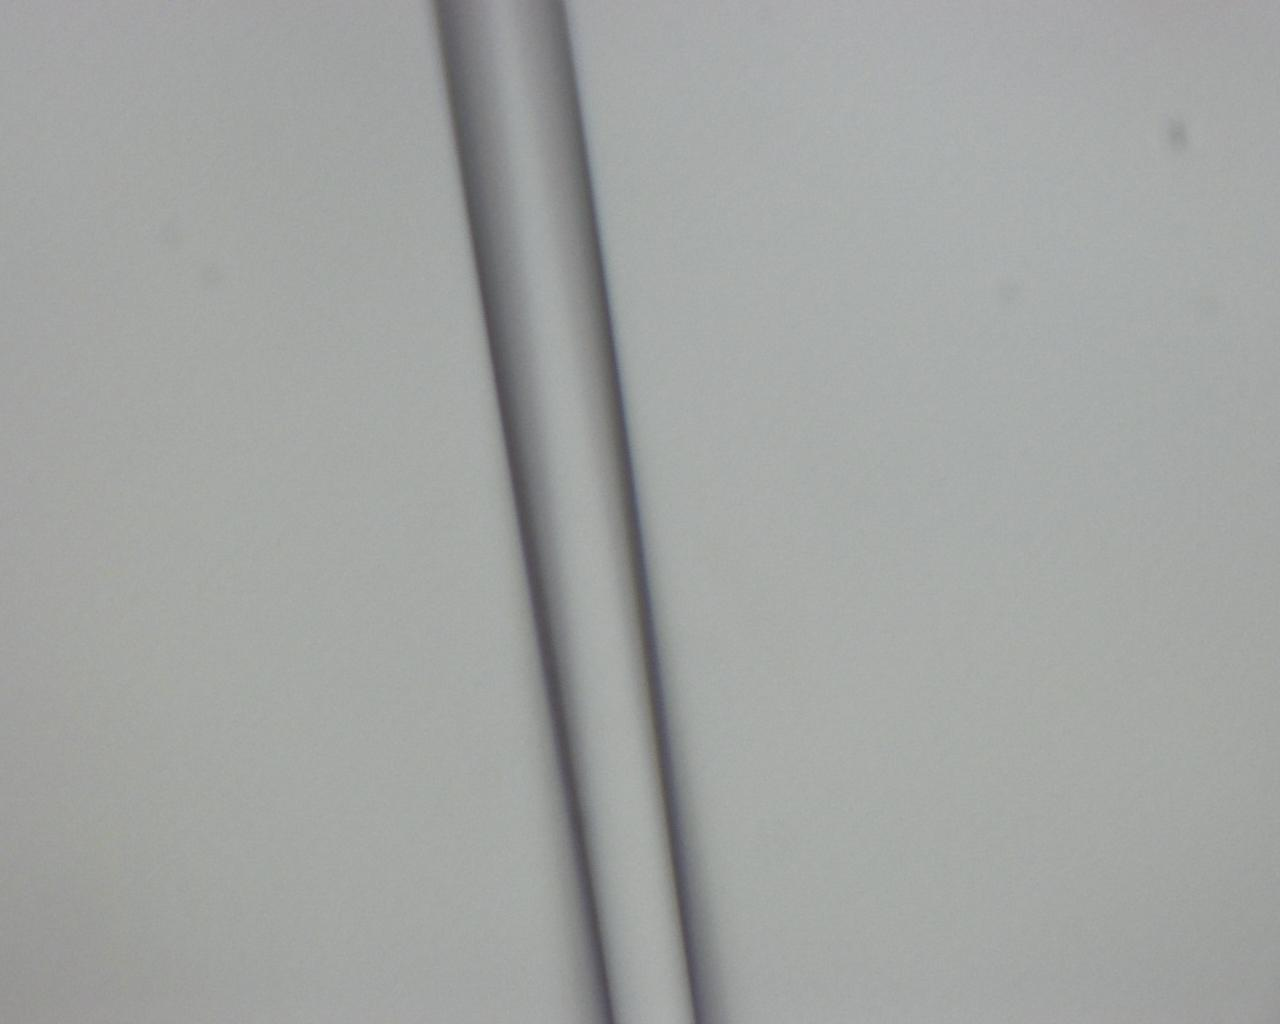fiber: (127, 940, 1151, 1004)
